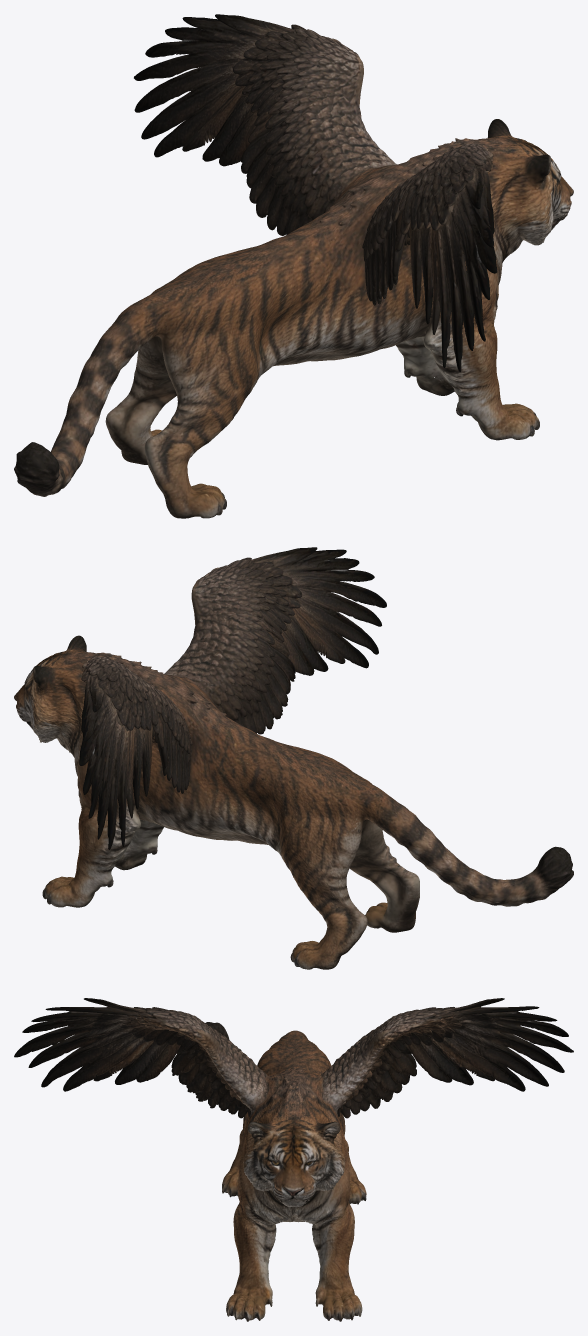
Rendered from qiongqi.glb.
3 views of the same model, one above another, from view 1: azimuth 30°, elevation 25°; view 2: azimuth 150°, elevation 25°; view 3: azimuth 270°, elevation 25° (orthographic). The views are drawn at different scales.
Visible parts, largest first — view 1: tripo_node_8cfb26da-7276-453e-8f48-82321e5e452b; view 2: tripo_node_8cfb26da-7276-453e-8f48-82321e5e452b; view 3: tripo_node_8cfb26da-7276-453e-8f48-82321e5e452b.
Part boxes in pixels (left/top/right/bottom): tripo_node_8cfb26da-7276-453e-8f48-82321e5e452b: left=14, top=14, right=573, bottom=518; tripo_node_8cfb26da-7276-453e-8f48-82321e5e452b: left=14, top=547, right=573, bottom=969; tripo_node_8cfb26da-7276-453e-8f48-82321e5e452b: left=14, top=998, right=573, bottom=1321.
Size of the model in its own units: 0.977 by 0.52 by 0.9833.
1 material, 1 textured.
